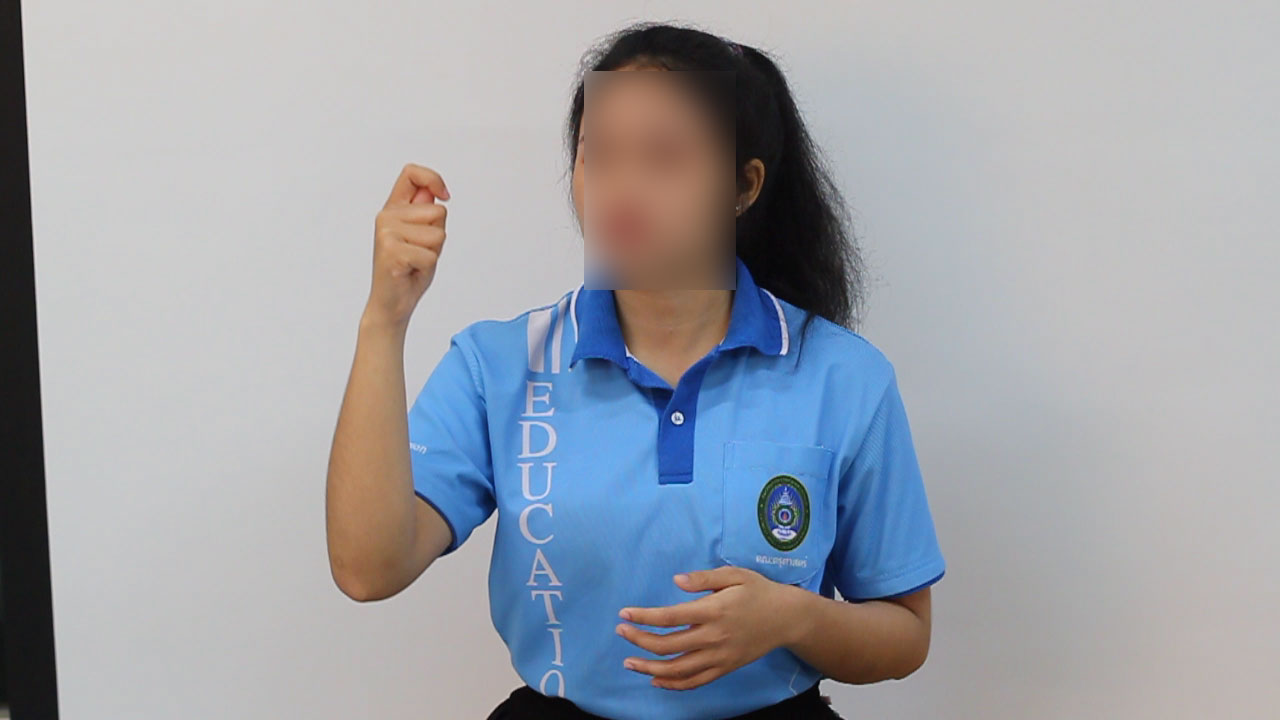or: (360, 154, 459, 324)
